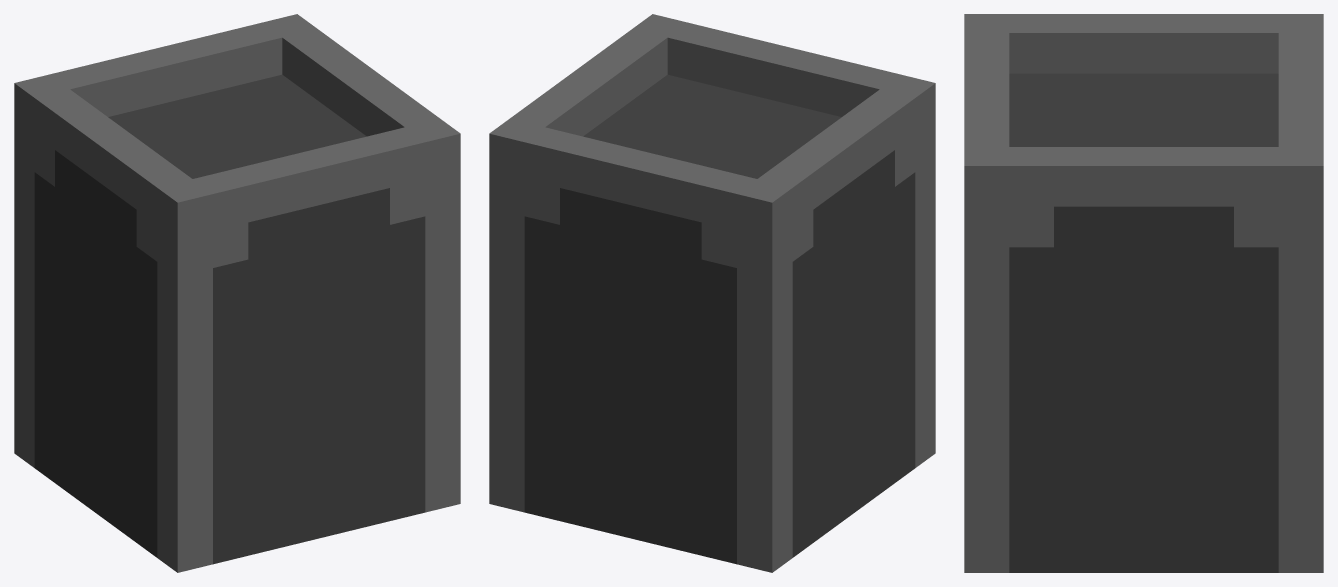
File: Pedestal.obj
3 views of the same model, side by side, from view 1: azimuth 30°, elevation 25°; view 2: azimuth 150°, elevation 25°; view 3: azimuth 270°, elevation 25° (orthographic). The views are drawn at different scales.
Bounding box in the file's own units: 0.8 × 1 × 0.8.
Materials: 1 (1 with a texture image).
